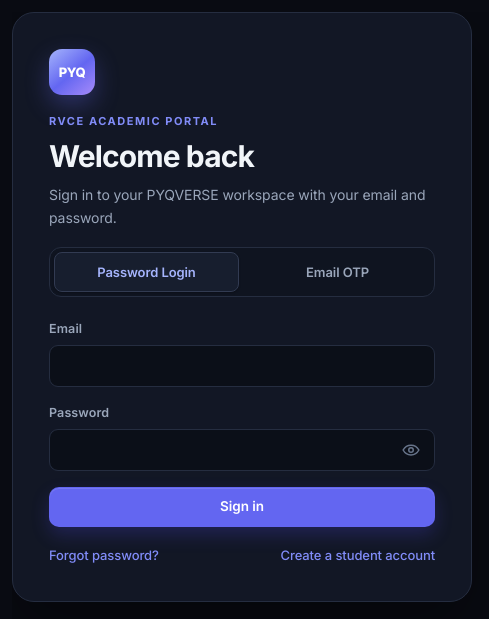
Test case: Login flow › routes a newly signed-in student to onboarding
The width and height of the screenshot is (489, 619).
Type "student@rvce.edu.in" into the field labelled "Email".
click(242, 366); type("student@rvce.edu.in")  # box [49, 345, 435, 387]
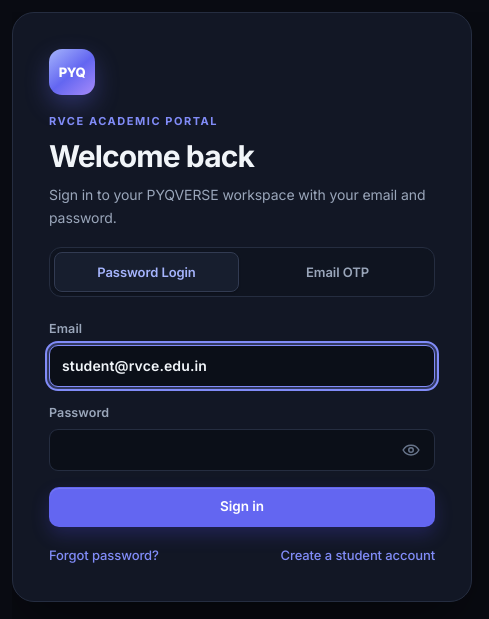
Type "StrongPass1" into the password field labelled "Password".
click(242, 450); type("StrongPass1")  # box [49, 429, 435, 471]
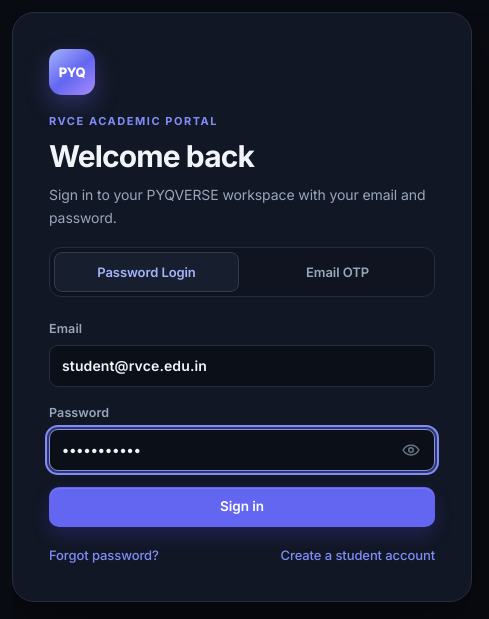
Click the button "Sign in".
click(242, 507)  # box [49, 487, 435, 527]
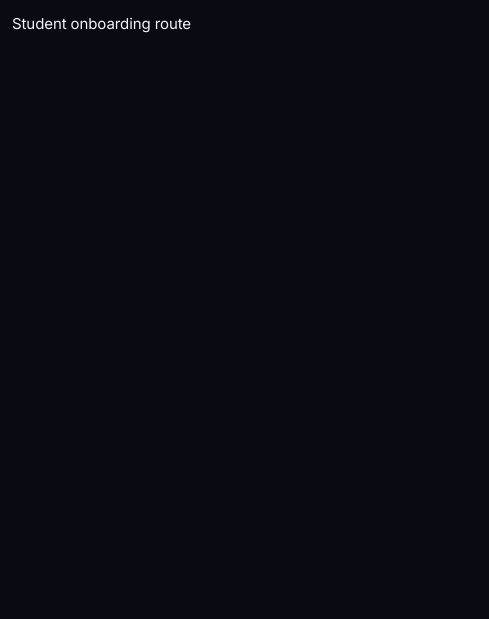
Result: the text "Student onboarding route" is shown at [12, 14, 191, 33]
